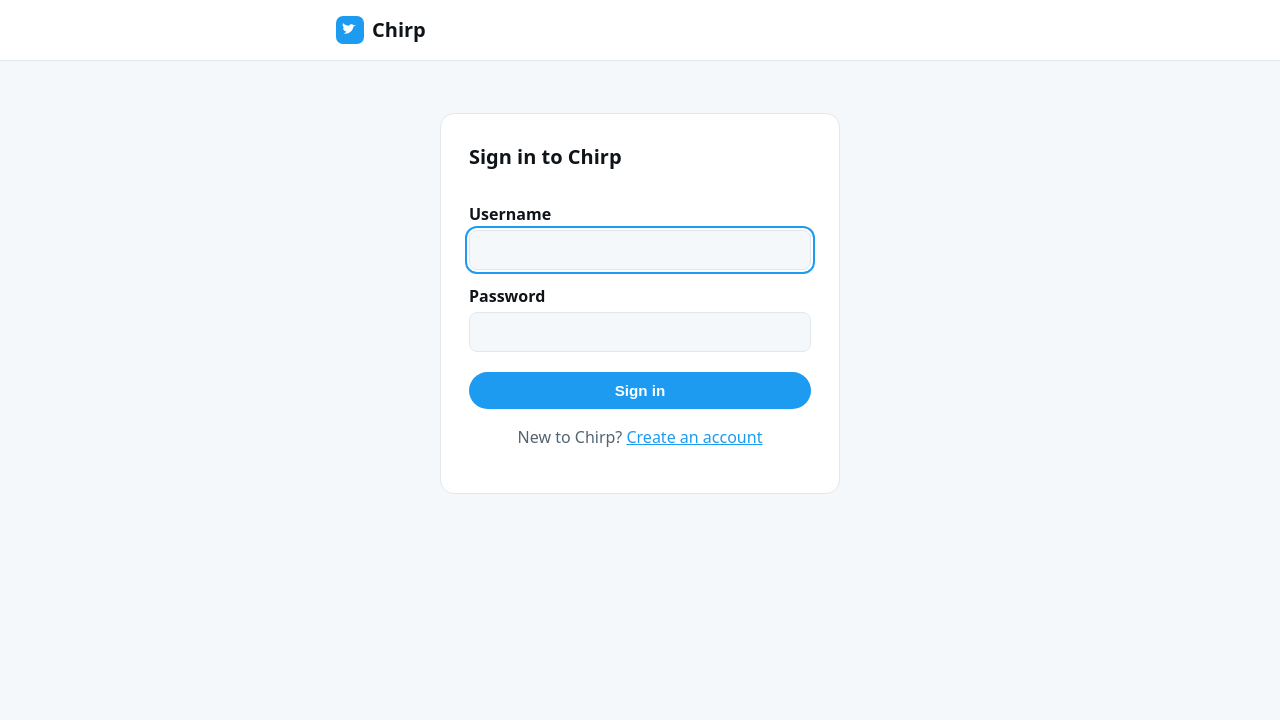
Test: App routing and auth flow › signs in, shows the feed, and signs out (FR-03, FR-05, FR-08)
In the field labelled "Username": (640, 250) x1=469 y1=230 x2=811 y2=270, type "alice"
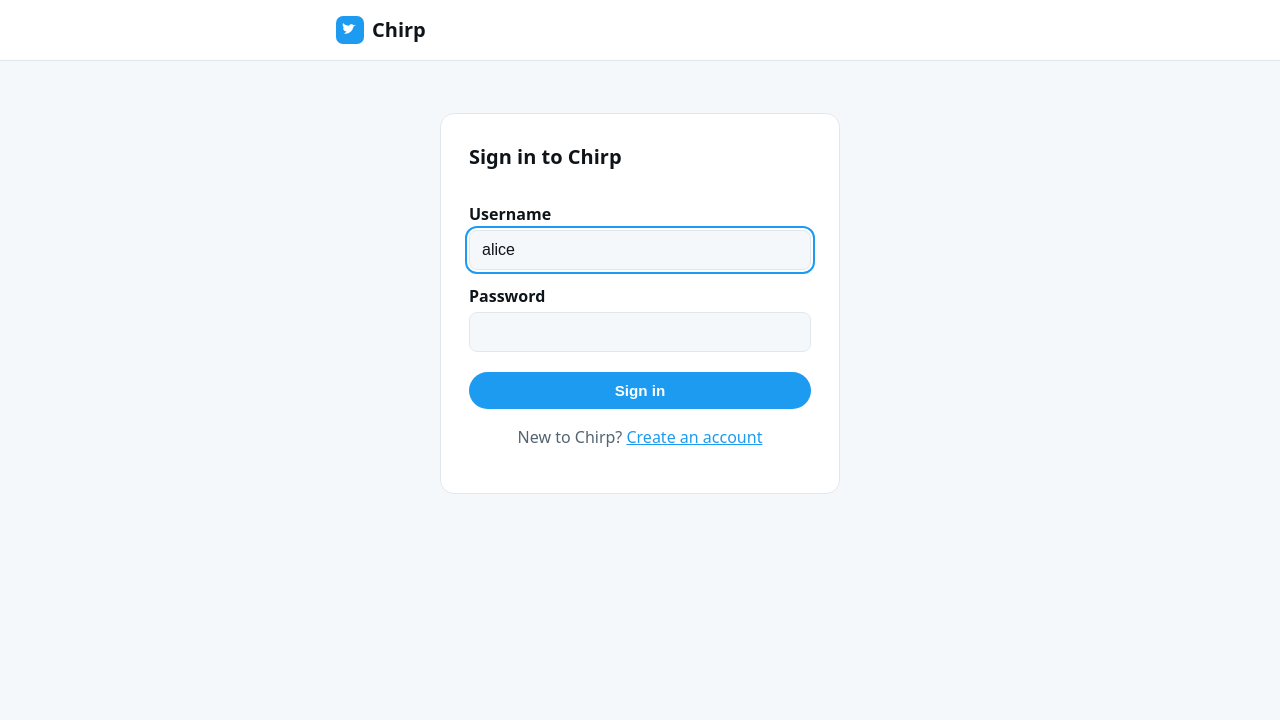
In the password field labelled "Password": (640, 332) x1=469 y1=312 x2=811 y2=352, type "password123"
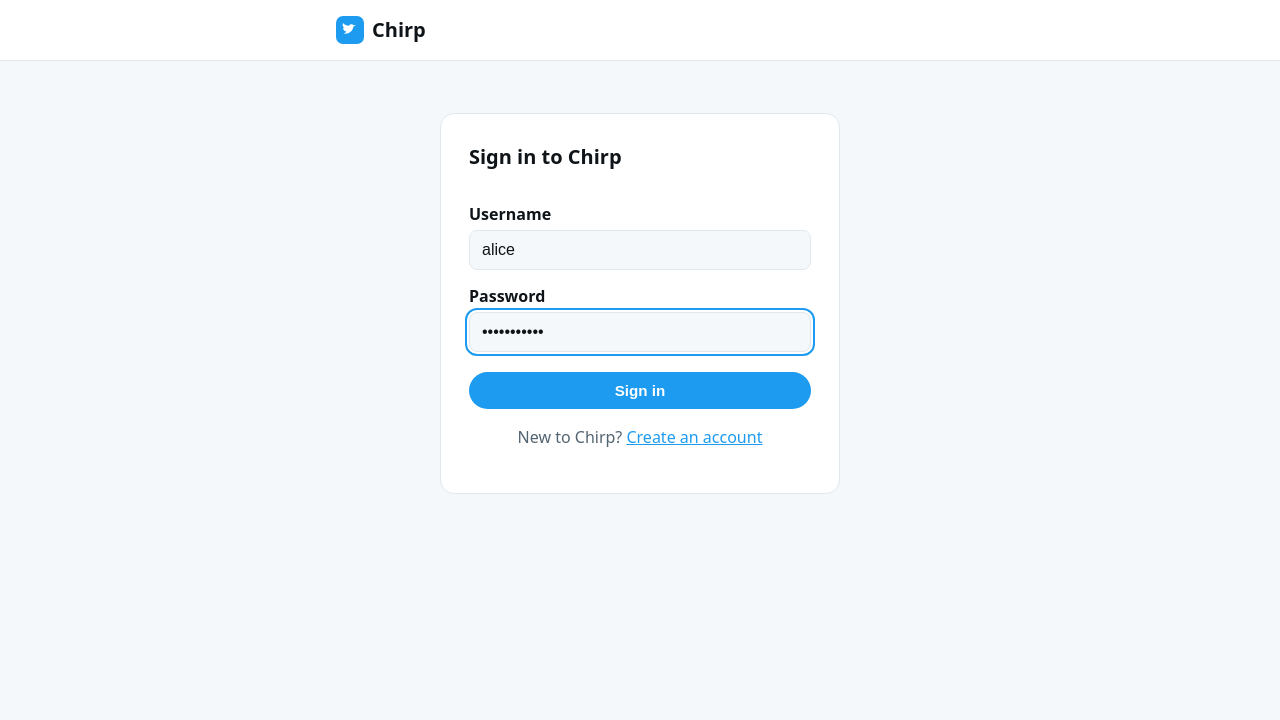
Click the button "Sign in": (640, 390) x1=469 y1=372 x2=811 y2=409
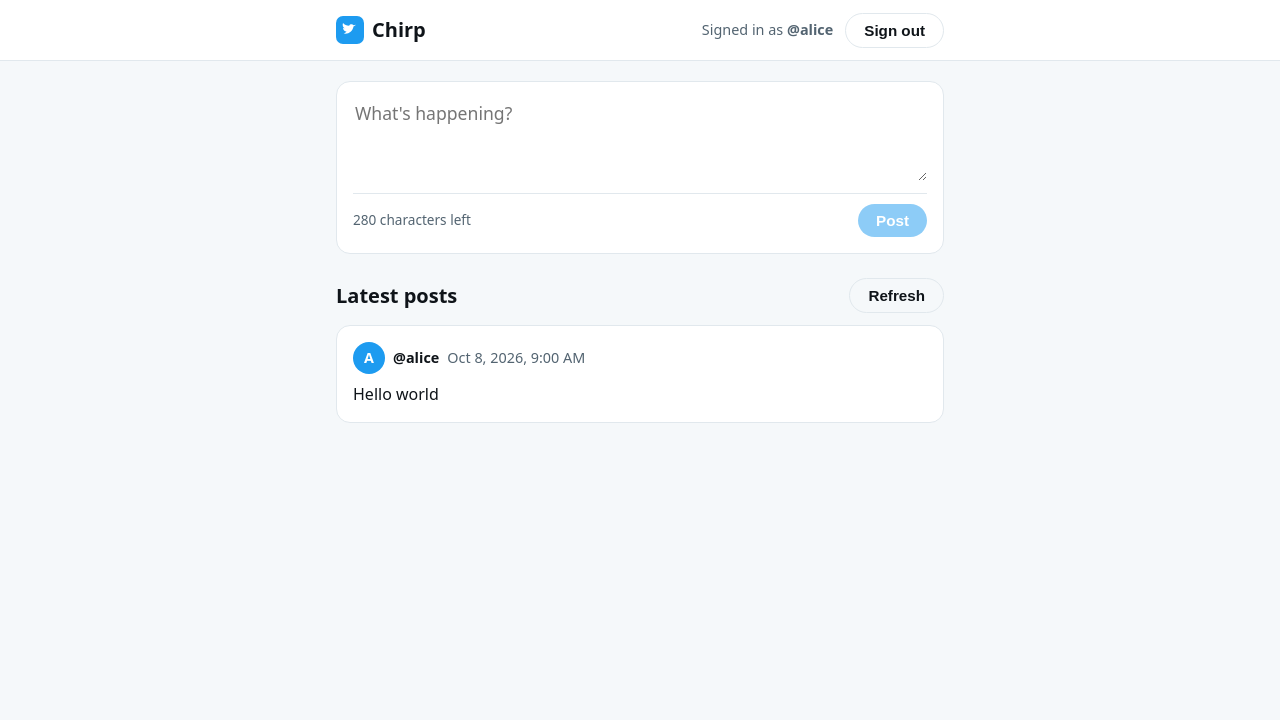
Check: the text "Hello world" is shown, box x1=353 y1=383 x2=439 y2=405
Check: the text "@alice" next to "Oct 8, 2026, 9:00 AM" is shown, box x1=393 y1=347 x2=439 y2=369
Click the button "Sign out": (895, 30) x1=845 y1=12 x2=944 y2=48
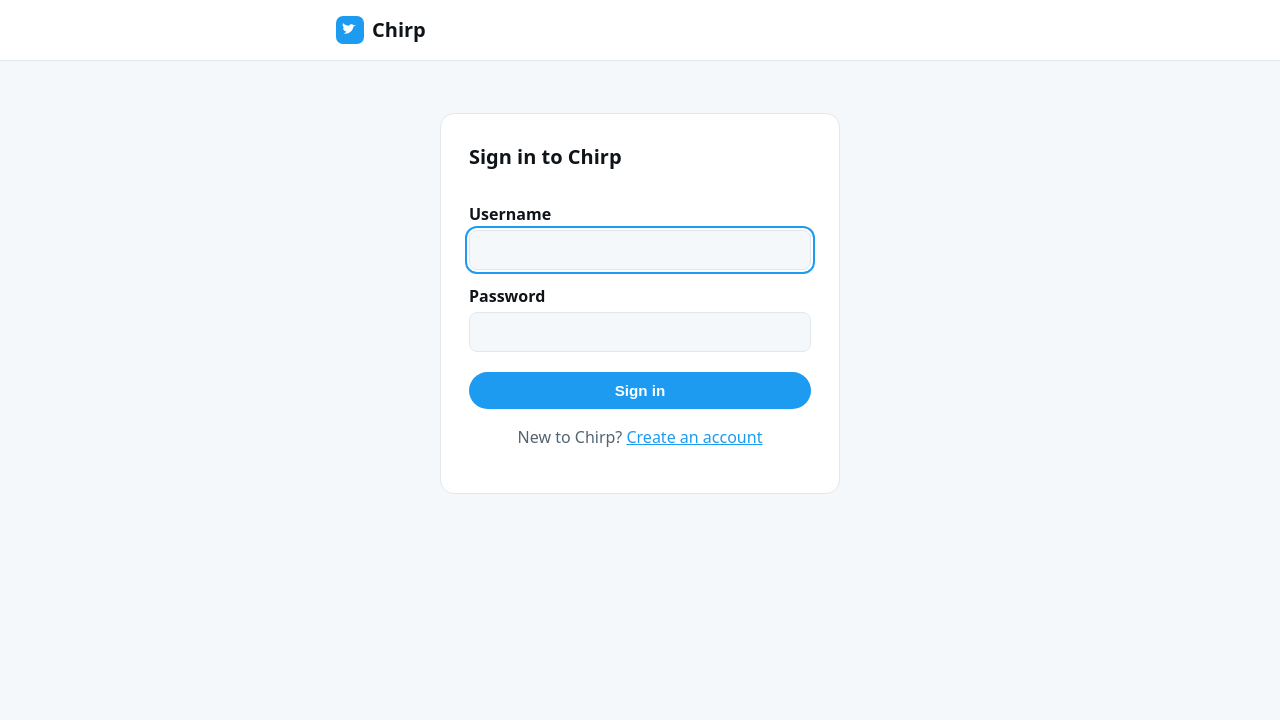
Check: the heading "Sign in to Chirp" is shown, box x1=469 y1=143 x2=622 y2=170
